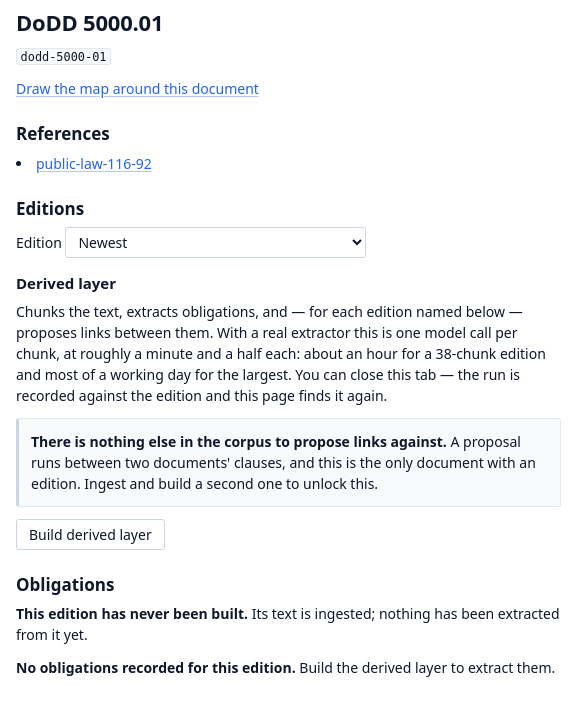
Test case: DocumentDetail — building the derived layer › reports progress while the run is in flight
Click the button "Build derived layer". click: [90, 534]
box: x1=16 y1=519 x2=165 y2=550
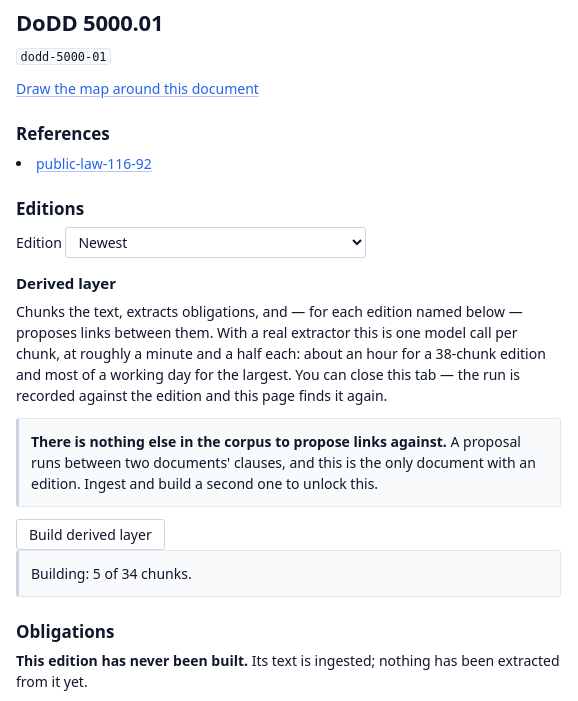
Expected: the text "Building: 5 of 34 chunks." is shown, x1=16 y1=550 x2=560 y2=597
